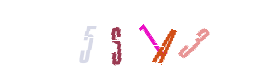3: (135, 0, 215, 80)
5: (77, 0, 157, 80)
A: (125, 0, 205, 80)
S: (91, 0, 171, 80)
Z: (109, 0, 189, 80)
